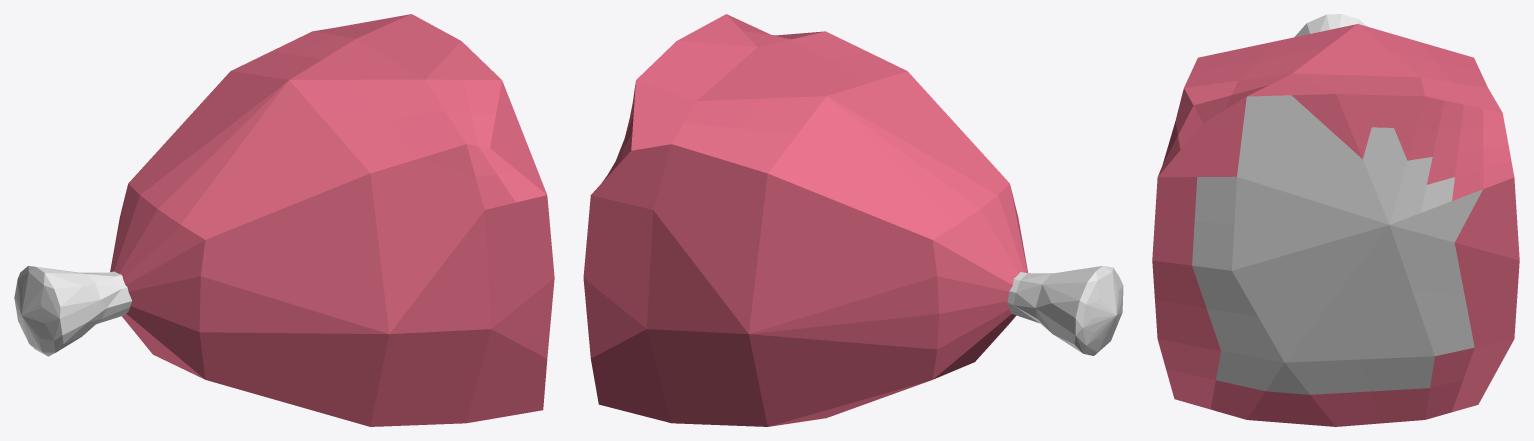
The model's file is moo.fbx.
3 views of the same model, side by side, from view 1: azimuth 30°, elevation 25°; view 2: azimuth 150°, elevation 25°; view 3: azimuth 270°, elevation 25° (orthographic).
Parts seen in each view (by area): view 1: Cube, Cylinder; view 2: Cube, Cylinder; view 3: Cube, Cylinder.
Part boxes in pixels (x1=…): Cube: x1=110, y1=14, x2=554, y2=426; Cylinder: x1=14, y1=266, x2=131, y2=356; Cube: x1=583, y1=14, x2=1027, y2=426; Cylinder: x1=1007, y1=266, x2=1123, y2=355; Cube: x1=1152, y1=24, x2=1519, y2=426; Cylinder: x1=1295, y1=14, x2=1367, y2=36.
Size of the model in its own units: 321 by 221 by 221.
